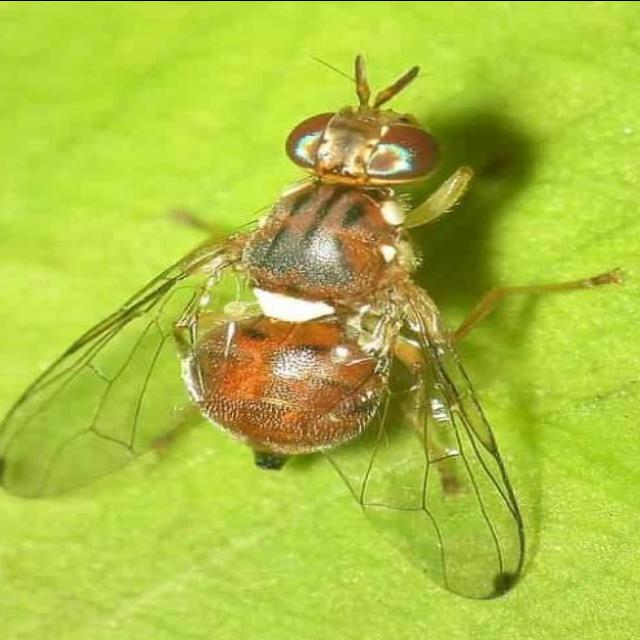Fruit fly: (0, 55, 636, 608)
